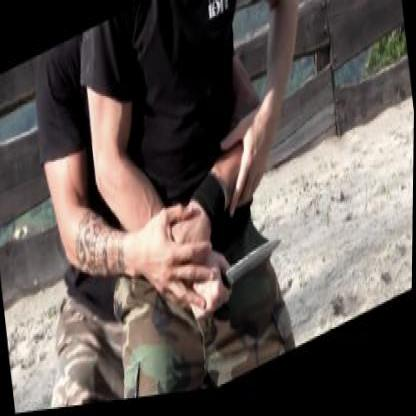knife: (187, 226, 290, 332)
